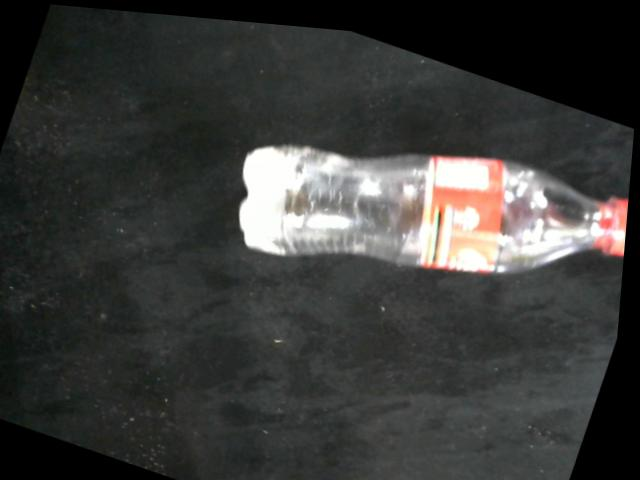bottle: (241, 137, 631, 265)
